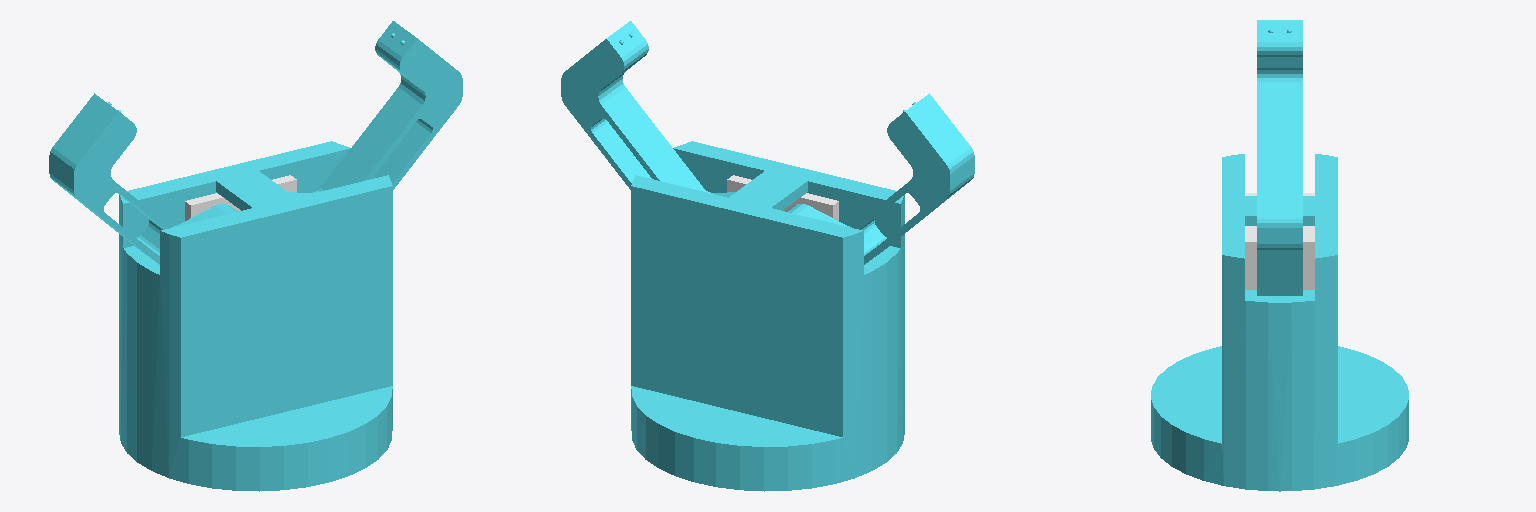
robot.urdf — gripper3:
<?xml version="1.0" encoding="utf-8"?>
<!-- This URDF was automatically created by SolidWorks to URDF Exporter! Originally created by [author] ([email redacted]) 
     Commit Version: 1.6.0-4-g7f85cfe  Build Version: 1.6.7995.38578
     For more information, please see http://wiki.ros.org/sw_urdf_exporter -->
<robot
  name="gripper3">
  <link
    name="base_link">
    <inertial>
      <origin
        xyz="6.9389E-18 5.5511E-17 0.079281"
        rpy="0 0 0" />
      <mass
        value="3.5364" />
      <inertia
        ixx="0.022721"
        ixy="5.9967E-19"
        ixz="2.4386E-18"
        iyy="0.029708"
        iyz="9.958E-20"
        izz="0.021937" />
    </inertial>
    <visual>
      <origin
        xyz="0 0 0"
        rpy="0 0 0" />
      <geometry>
        <mesh
          filename="package://gripper3/meshes/base_link.STL" />
      </geometry>
      <material
        name="base_color">
        <color
          rgba="0.41 0.94 1 1" />
      </material>
    </visual>
    <collision>
      <origin
        xyz="0 0 0"
        rpy="0 0 0" />
      <geometry>
        <mesh
          filename="package://gripper3/meshes/base_link.STL" />
      </geometry>
    </collision>
  </link>
  <link
    name="link1">
    <inertial>
      <origin
        xyz="-1.7347E-17 0 0.023558"
        rpy="0 0 0" />
      <mass
        value="0.15573" />
      <inertia
        ixx="0.00013315"
        ixy="-1.0547E-20"
        ixz="-1.3154E-19"
        iyy="0.00018543"
        iyz="-1.5013E-20"
        izz="0.00021094" />
    </inertial>
    <visual>
      <origin
        xyz="0 0 0"
        rpy="0 0 0" />
      <geometry>
        <mesh
          filename="package://gripper3/meshes/link1.STL" />
      </geometry>
      <material
        name="link_color">
        <color
          rgba="1 1 1 1" />
      </material>
    </visual>
    <collision>
      <origin
        xyz="0 0 0"
        rpy="0 0 0" />
      <geometry>
        <mesh
          filename="package://gripper3/meshes/link1.STL" />
      </geometry>
    </collision>
  </link>
  <joint
    name="joint1"
    type="prismatic">
    <origin
      xyz="0 0 0.14917"
      rpy="0 0 0" />
    <parent
      link="base_link" />
    <child
      link="link1" />
    <axis
      xyz="0 0 -1" />
    <limit
      lower="0"
      upper="0"
      effort="100"
      velocity="1000" />
  </joint>
  <link
    name="link2">
    <inertial>
      <origin
        xyz="0.083543 0.044291 -0.03"
        rpy="0 0 0" />
      <mass
        value="0.25411" />
      <inertia
        ixx="0.00069675"
        ixy="-0.00055583"
        ixz="3.2874E-20"
        iyy="0.00070744"
        iyz="3.5255E-20"
        izz="0.0013349" />
    </inertial>
    <visual>
      <origin
        xyz="0 0 0"
        rpy="0 0 0" />
      <geometry>
        <mesh
          filename="package://gripper3/meshes/link2.STL" />
      </geometry>
      <material
        name="link_color">
        <color
          rgba="0.41 0.94 1 1" />
      </material>
    </visual>
    <collision>
      <origin
        xyz="0 0 0"
        rpy="0 0 0" />
      <geometry>
        <mesh
          filename="package://gripper3/meshes/link2.STL" />
      </geometry>
    </collision>
  </link>
  <joint
    name="joint2"
    type="revolute">
    <origin
      xyz="0.02322 -0.03 0.04"
      rpy="1.5708 0 0" />
    <parent
      link="link1" />
    <child
      link="link2" />
    <axis
      xyz="0 0 1" />
    <limit
      lower="0"
      upper="1.57"
      effort="100"
      velocity="3.14" />
  </joint>
  <link
    name="link3">
    <inertial>
      <origin
        xyz="0.083543 0.044291 0.03"
        rpy="0 0 0" />
      <mass
        value="0.25411" />
      <inertia
        ixx="0.00069675"
        ixy="-0.00055583"
        ixz="4.8634E-20"
        iyy="0.00070744"
        iyz="1.6039E-20"
        izz="0.0013349" />
    </inertial>
    <visual>
      <origin
        xyz="0 0 0"
        rpy="0 0 0" />
      <geometry>
        <mesh
          filename="package://gripper3/meshes/link3.STL" />
      </geometry>
      <material
        name="link_color">
        <color
          rgba="0.41 0.94 1 1" />
      </material>
    </visual>
    <collision>
      <origin
        xyz="0 0 0"
        rpy="0 0 0" />
      <geometry>
        <mesh
          filename="package://gripper3/meshes/link3.STL" />
      </geometry>
    </collision>
  </link>
  <joint
    name="joint3"
    type="revolute">
    <origin
      xyz="-0.02322 -0.03 0.04"
      rpy="1.5708 0 3.1416" />
    <parent
      link="link1" />
    <child
      link="link3" />
    <axis
      xyz="0 0 -1" />
    <limit
      lower="-10"
      upper="1.57"
      effort="100"
      velocity="3.14" />
    <mimic
      joint="joint2"
      multiplier="-1"
      offset="0" />
  </joint>
</robot>

--- Facts derived from the render (not from the file) ---
The picture shows the robot from 3 angles, left to right: view 1: azimuth 30°, elevation 25°; view 2: azimuth 150°, elevation 25°; view 3: azimuth 270°, elevation 25°; orthographic projection.
Model gripper3 with 4 links and 3 joints (2 revolute, 1 prismatic), rooted at base_link, posed every joint at zero.
Links seen in each view (by area): view 1: base_link, link2, link3, link1; view 2: base_link, link2, link3, link1; view 3: base_link, link2, link3, link1.
Boxes of the visible links, box(x1,y1,x2,y2) form: base_link: box(119, 141, 392, 491); link2: box(288, 21, 462, 197); link3: box(49, 93, 237, 264); link1: box(185, 175, 296, 220); base_link: box(631, 141, 904, 491); link2: box(561, 21, 735, 197); link3: box(786, 93, 974, 264); link1: box(727, 175, 838, 220); base_link: box(1151, 154, 1408, 491); link2: box(1257, 158, 1302, 295); link3: box(1257, 20, 1302, 157); link1: box(1245, 193, 1314, 289).
Bounding box of the posed robot: 0.3666 × 0.2234 × 0.3313 m (x, y, z).
4 mesh visuals loaded from 4 distinct referenced files (4 binary STL).